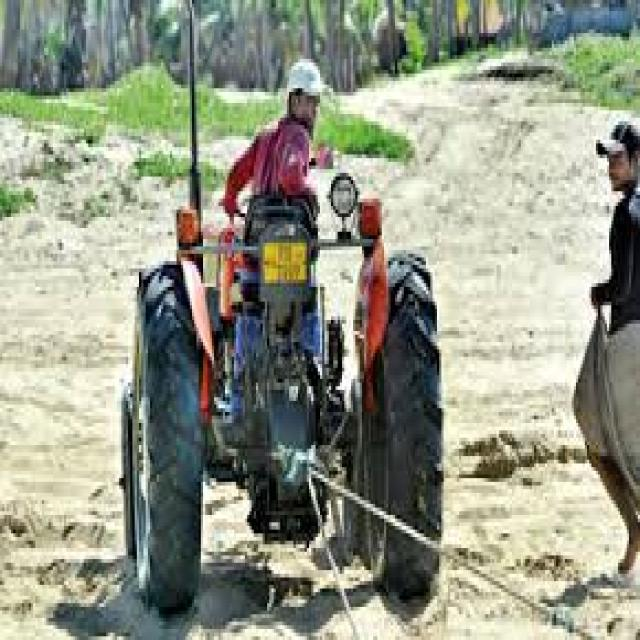person: (574, 121, 638, 574), (223, 59, 320, 217)
tractor: (121, 195, 441, 611)
